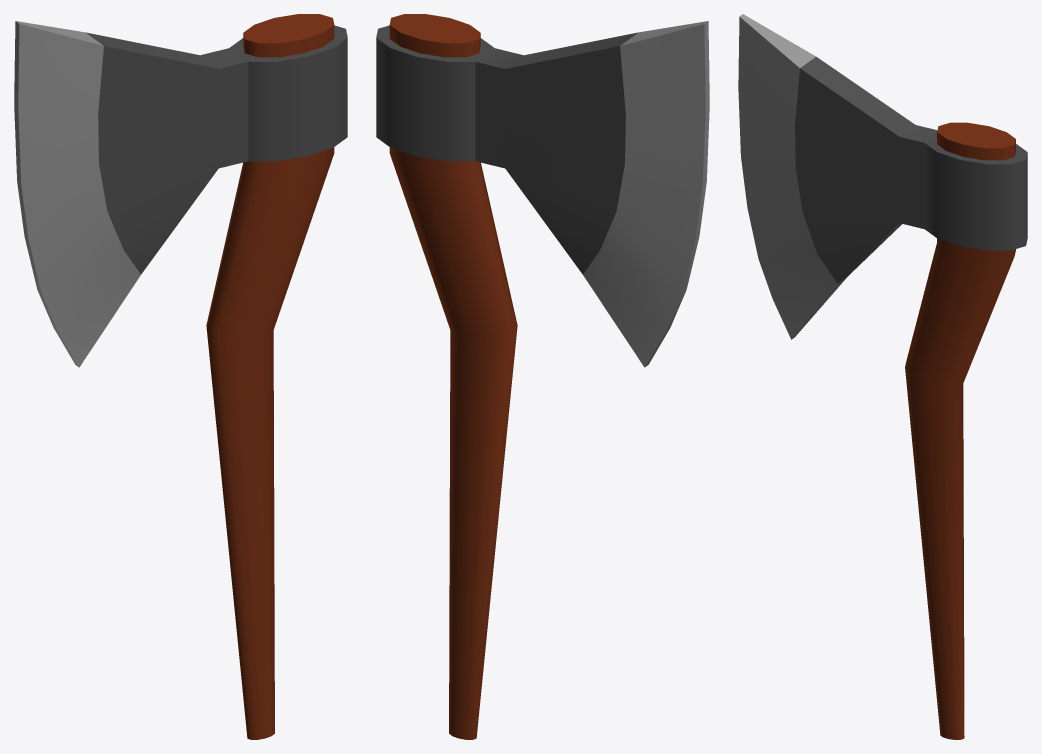
Rendered from LumberjackRunAxe01.FBX.
3 renders of one model, left to right at view 1: azimuth 30°, elevation 25°; view 2: azimuth 150°, elevation 25°; view 3: azimuth 330°, elevation 25°, orthographic. The views are drawn at different scales.
Parts seen in each view (by area): view 1: LamberjackAxe01; view 2: LamberjackAxe01; view 3: LamberjackAxe01.
Boxes of the visible parts, x1,y1,x2,y2 form: LamberjackAxe01: [14, 14, 347, 739]; LamberjackAxe01: [376, 14, 709, 739]; LamberjackAxe01: [738, 14, 1027, 739].
Size of the model in its own units: 43.83 by 98.12 by 8.78.
